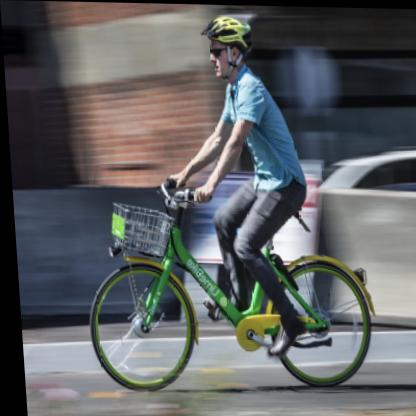With Helmet: (197, 9, 260, 84)
